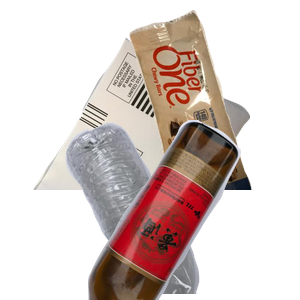glass: (85, 120, 300, 300)
paper: (31, 35, 271, 215)
plastic: (63, 120, 263, 300)
trash: (127, 10, 300, 190)
